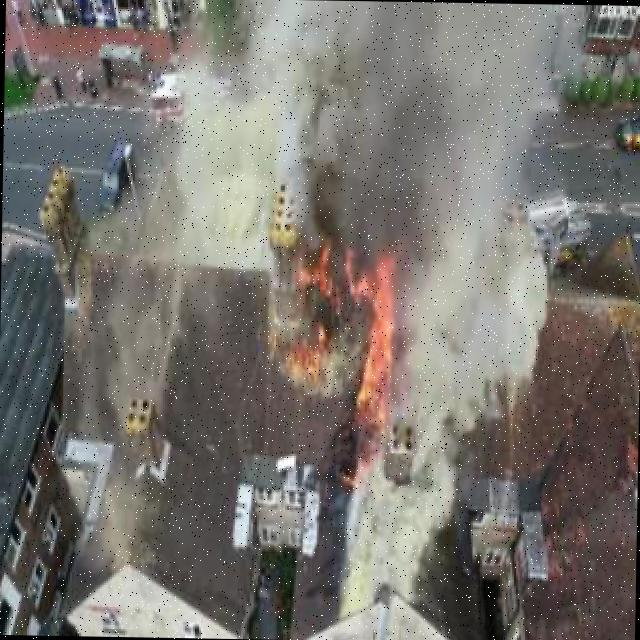fire: (277, 213, 426, 452)
